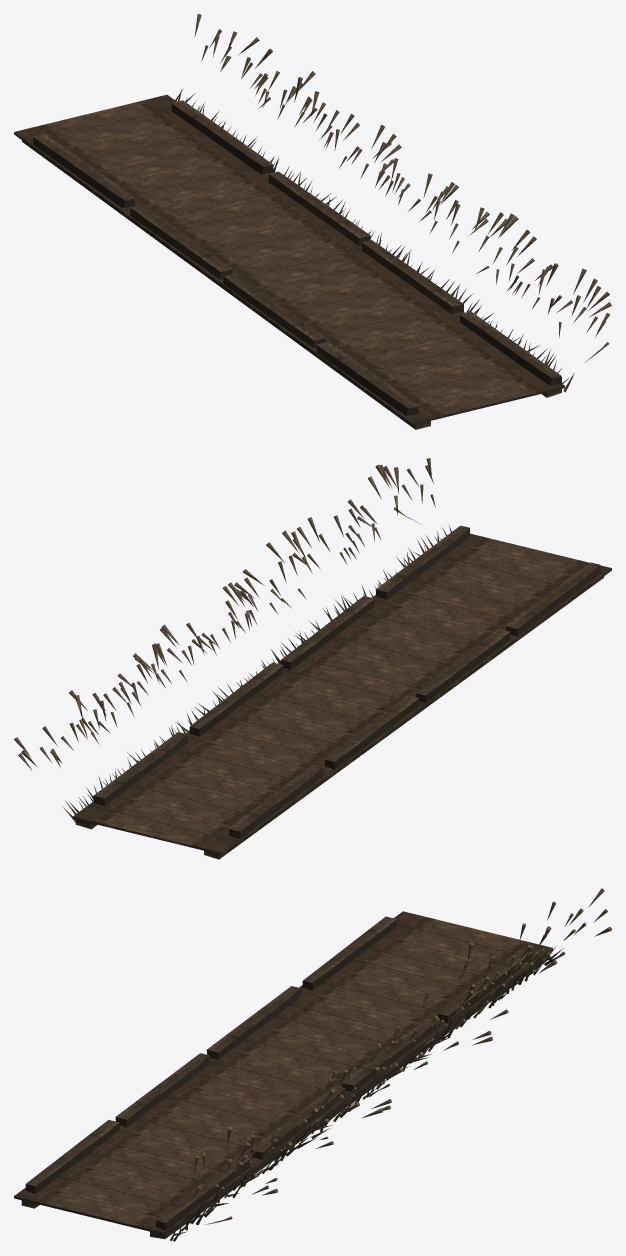
The model's file is Muspelheim_Stone_Bridge.glb.
3 renders of one model, top to bottom at view 1: azimuth 30°, elevation 25°; view 2: azimuth 150°, elevation 25°; view 3: azimuth 330°, elevation 25°, orthographic. The views are drawn at different scales.
Parts seen in each view (by area): view 1: 01__0; view 2: 01__0; view 3: 01__0.
Boxes of the visible parts, x1=… form: 01__0: x1=14, y1=14, x2=611, y2=429; 01__0: x1=14, y1=458, x2=611, y2=859; 01__0: x1=14, y1=888, x2=611, y2=1241.
Size of the model in its own units: 3.12 by 1.28 by 9.28.
1 material, 1 textured.
